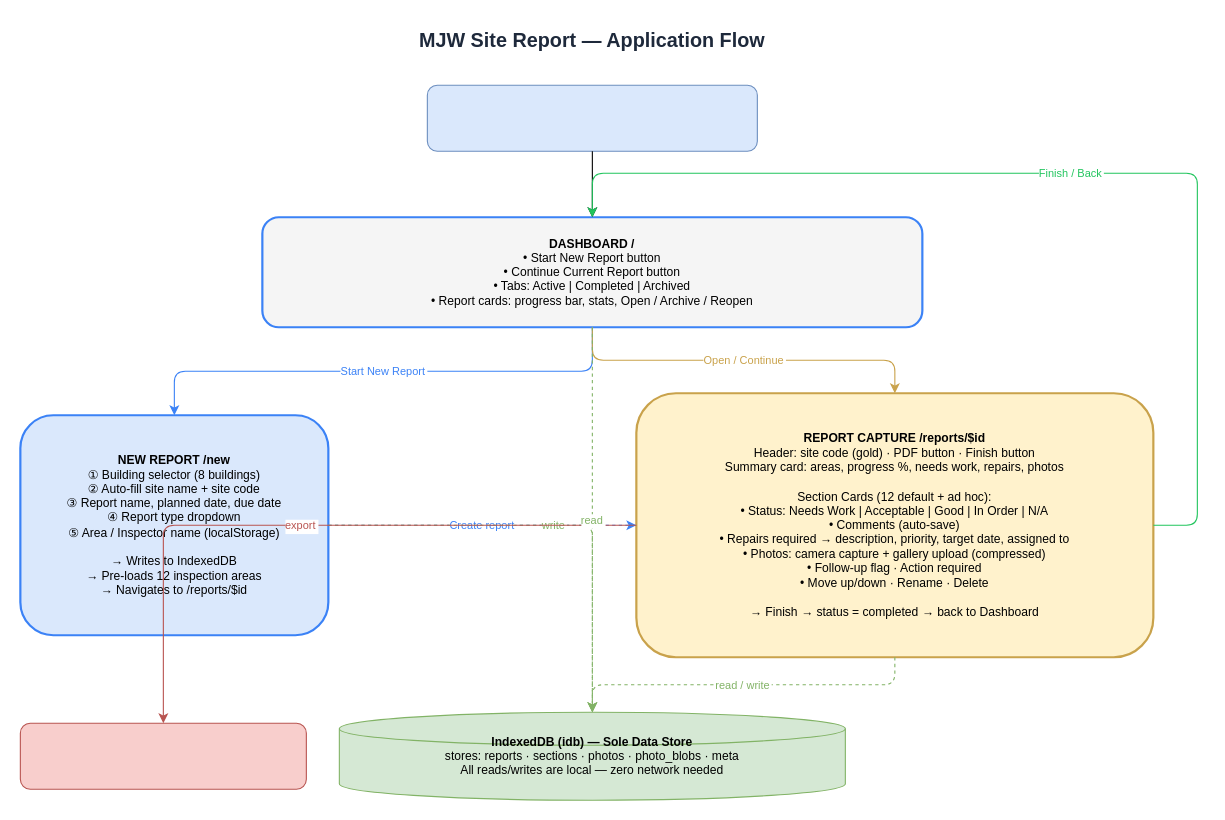
Image size: 1225x820. Some labels were removed from this diagram. Each missing label, with the box of its shape:
PDF Export (jsPDF + autotable) blob:// URLs for photos · 100% offline: (19, 722, 306, 789)
PWA / Service Worker Caches all assets on install Works with zero network signal: (426, 84, 757, 151)
